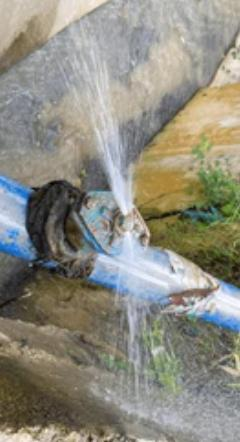pipe burst: (51, 0, 133, 215), (119, 228, 195, 416)
water accumulation: (0, 267, 240, 442)
